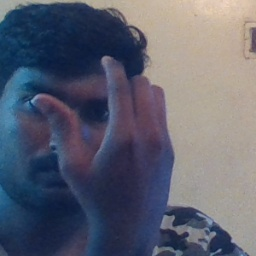U: (36, 50, 180, 220)
